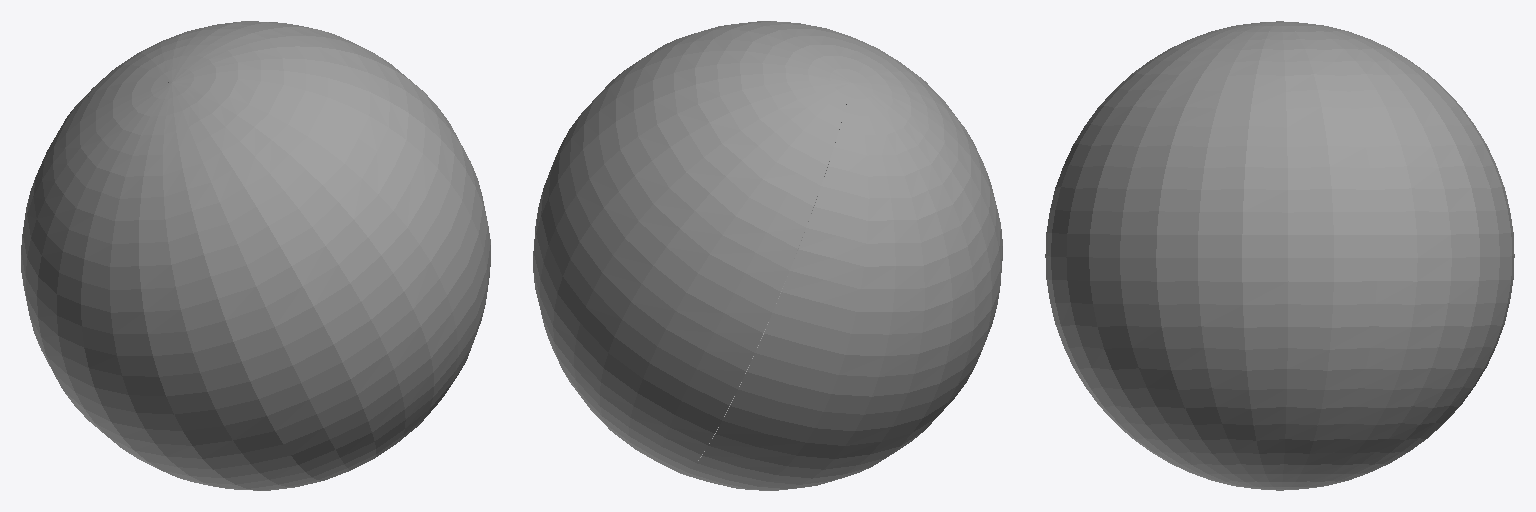
File: AlienPlanet.obj
3 renders of one model, left to right at view 1: azimuth 30°, elevation 25°; view 2: azimuth 150°, elevation 25°; view 3: azimuth 270°, elevation 25°, orthographic.
Parts seen in each view (by area): view 1: Plane; view 2: Plane; view 3: Plane.
Part boxes in pixels (x1,y1,x2,y2): Plane: (21, 21, 490, 490); Plane: (533, 21, 1002, 490); Plane: (1045, 21, 1514, 490).
Size of the model in its own units: 5.44 by 5.44 by 5.44.